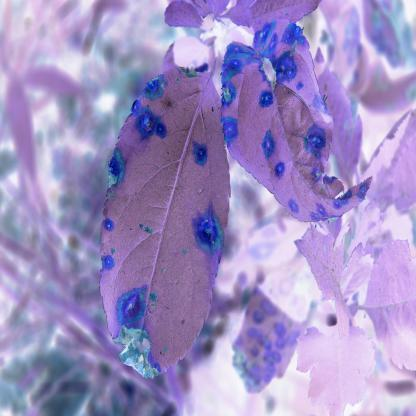Apple rust leaf: (97, 44, 233, 384), (219, 33, 379, 233)
